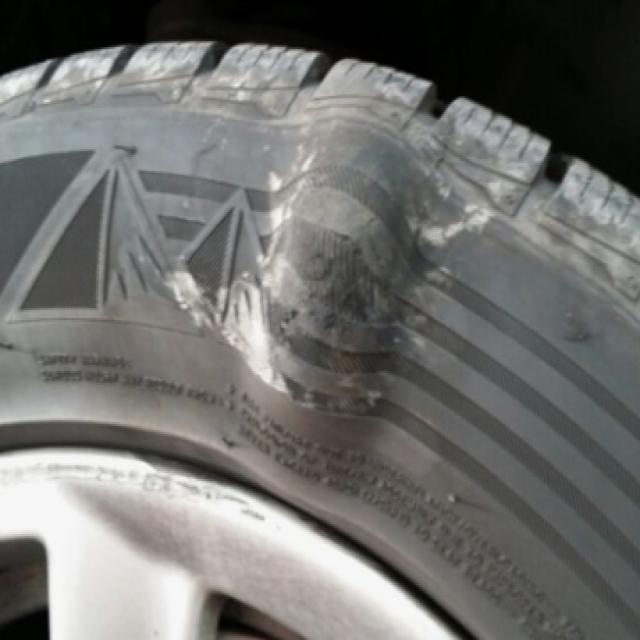Bulge: (228, 88, 470, 458)
